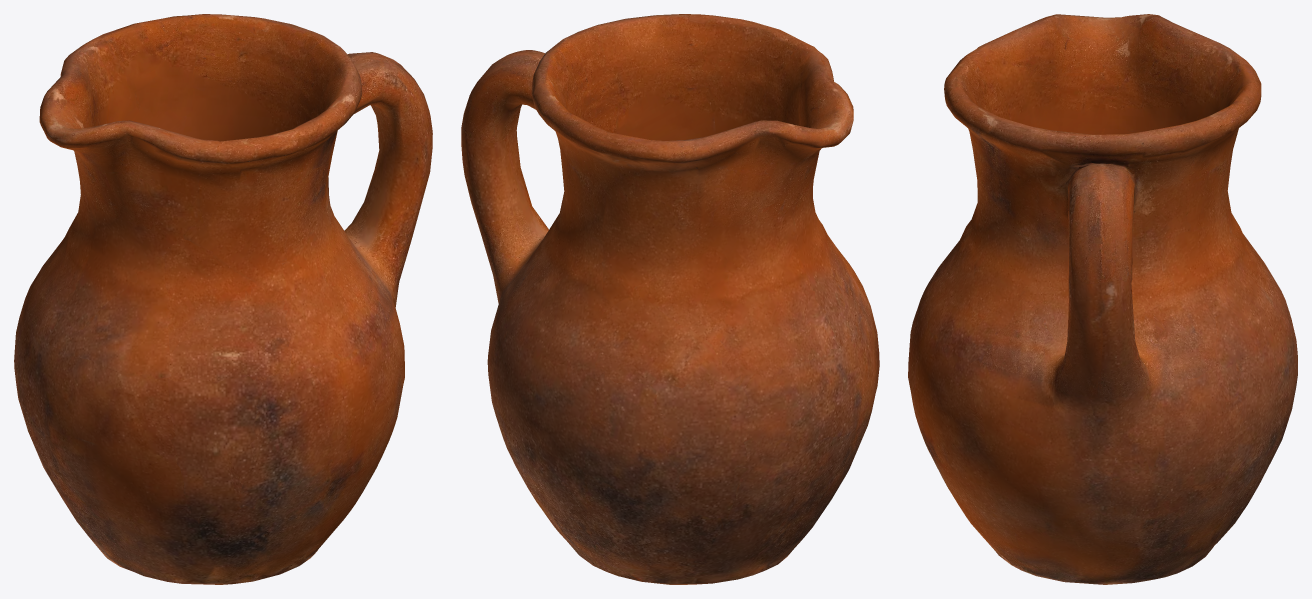
The model's file is terracotta-pitcher.glb.
3 views of the same model, side by side, from view 1: azimuth 30°, elevation 25°; view 2: azimuth 150°, elevation 25°; view 3: azimuth 270°, elevation 25° (orthographic).
Bounding box in the file's own units: 1.64 × 1.9 × 1.45.
Materials: 1 (1 with a texture image).
